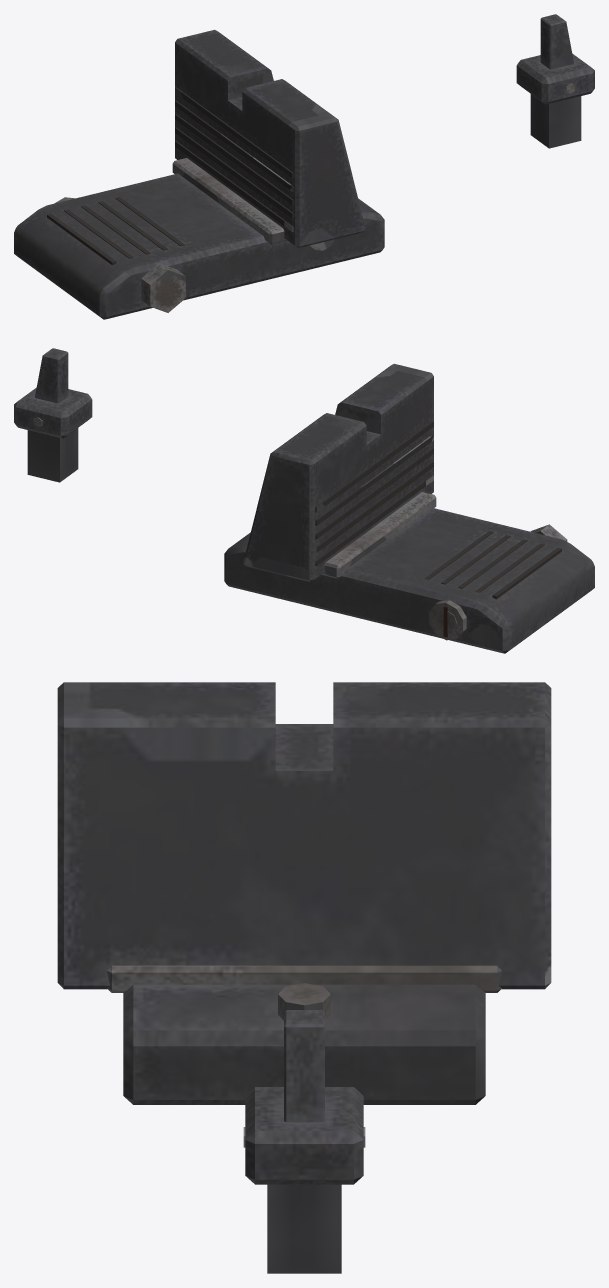
The model's file is mason_notch.glb.
3 renders of one model, top to bottom at view 1: azimuth 30°, elevation 25°; view 2: azimuth 150°, elevation 25°; view 3: azimuth 270°, elevation 25°, orthographic. The views are drawn at different scales.
Visible parts, largest first — view 1: mason_notch, PostBlade, PostStem; view 2: mason_notch, PostBlade, PostStem; view 3: mason_notch, PostBlade, PostStem.
Part boxes in pixels (<box>): mason_notch: <box>14,29,384,319</box>; PostBlade: <box>516,14,594,104</box>; PostStem: <box>530,59,581,148</box>; mason_notch: <box>224,363,594,653</box>; PostBlade: <box>14,348,92,438</box>; PostStem: <box>27,401,78,482</box>; mason_notch: <box>57,682,551,1104</box>; PostBlade: <box>243,1010,365,1184</box>; PostStem: <box>267,1101,341,1273</box>.
Bounding box in the file's own units: 0.0738 × 0.0218 × 0.03.
1 material, 1 textured.
